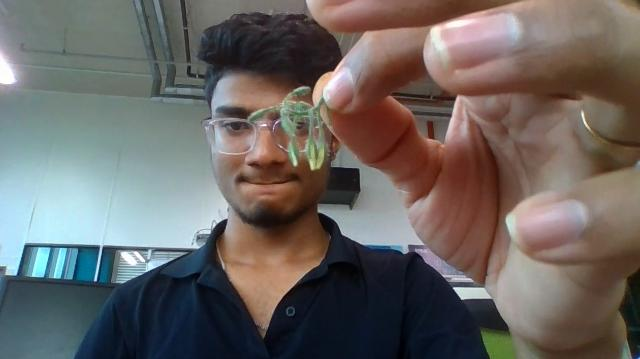Flower Bud: (307, 130, 325, 171), (247, 106, 281, 124), (283, 86, 312, 103), (245, 107, 271, 124), (285, 142, 298, 168)
